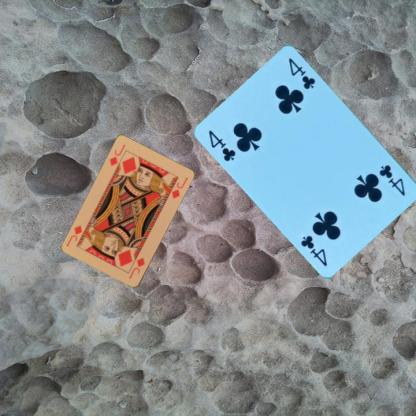4c: (206, 128, 238, 163), (377, 162, 407, 197)
Jd: (107, 142, 126, 168), (127, 255, 146, 280)
